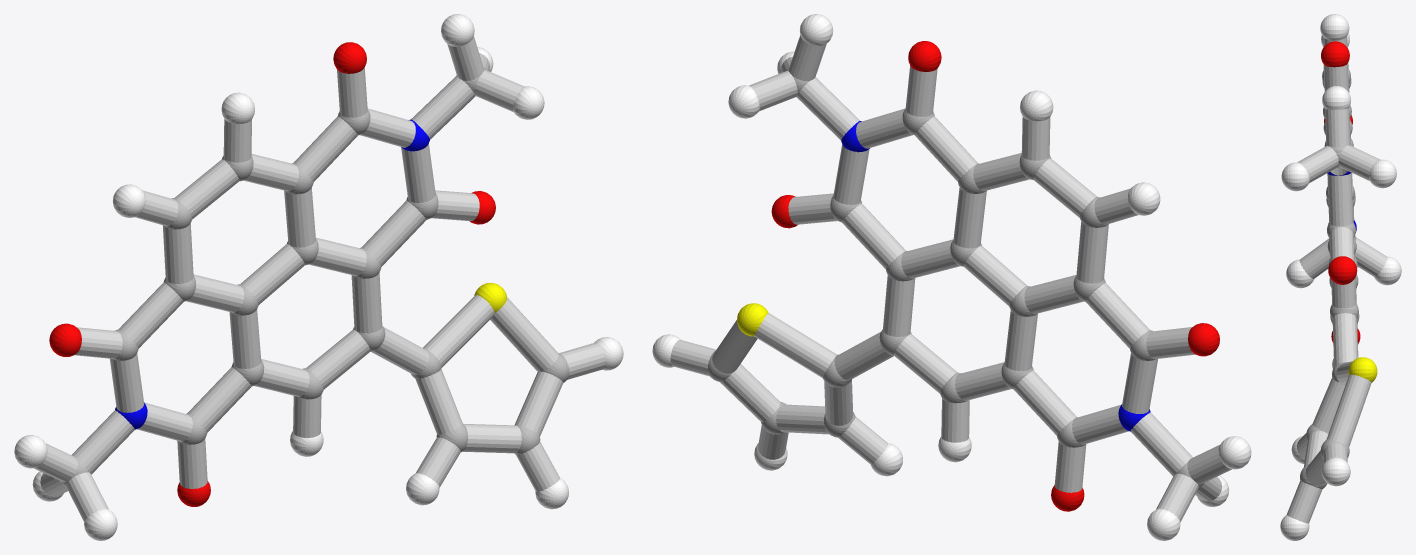
The model's file is Dimethyl_Naphthalene_Dicarboximide_Phi_15_Theta_160_Thiophene.glb.
3 views of the same model, side by side, from view 1: azimuth 30°, elevation 25°; view 2: azimuth 150°, elevation 25°; view 3: azimuth 270°, elevation 25° (orthographic). The views are drawn at different scales.
Visible parts, largest first — view 1: grp14119, grp7241, grp1, grp12309, grp11585; view 2: grp14119, grp7241, grp1, grp12309, grp11585, grp13757; view 3: grp14119, grp7241, grp1, grp12309, grp13757.
Boxes of the visible parts, box(x1,y1,x2,y2) form: grp14119: box(34, 36, 605, 521); grp7241: box(14, 14, 623, 540); grp1: box(60, 67, 569, 486); grp12309: box(49, 42, 495, 506); grp11585: box(115, 119, 429, 429); grp14119: box(670, 35, 1231, 521); grp7241: box(652, 14, 1251, 540); grp1: box(707, 68, 1203, 488); grp12309: box(771, 41, 1219, 511); grp11585: box(841, 121, 1150, 431); grp13757: box(737, 303, 768, 336); grp14119: box(1286, 36, 1387, 523); grp7241: box(1280, 14, 1401, 540); grp1: box(1300, 69, 1359, 489); grp12309: box(1321, 41, 1360, 343); grp13757: box(1348, 357, 1377, 382).
Bounding box in the file's own units: 12.37 × 9.66 × 2.51.
